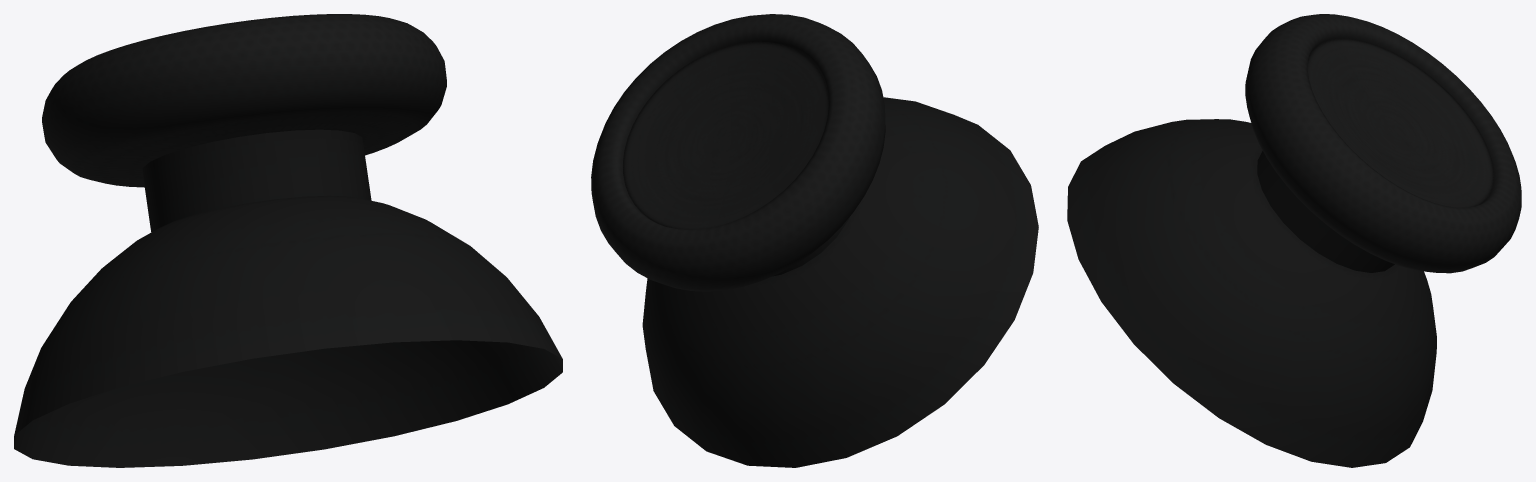
File: frame_controller_left_thumbstick.obj
The picture shows the model from 3 angles, left to right: view 1: azimuth 30°, elevation 25°; view 2: azimuth 150°, elevation 25°; view 3: azimuth 270°, elevation 25°; orthographic projection. The views are drawn at different scales.
Visible parts, largest first — view 1: frame_controller_left_thumbstick; view 2: frame_controller_left_thumbstick; view 3: frame_controller_left_thumbstick.
Boxes of the visible parts, bbox=[...] form: frame_controller_left_thumbstick: bbox=[14, 14, 562, 467]; frame_controller_left_thumbstick: bbox=[591, 14, 1038, 467]; frame_controller_left_thumbstick: bbox=[1067, 14, 1521, 467].
Size of the model in its own units: 0.0233 by 0.0237 by 0.0247.
1 material, 1 textured.
